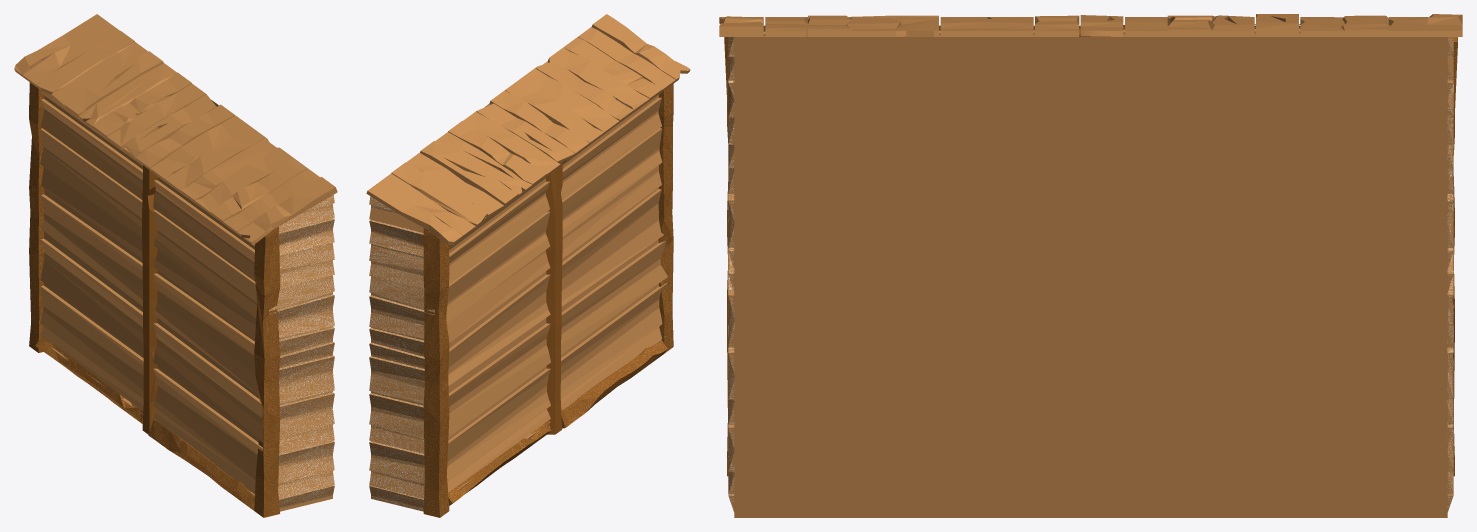
File: Extension3.fbx
The picture shows the model from 3 angles, left to right: view 1: azimuth 30°, elevation 25°; view 2: azimuth 150°, elevation 25°; view 3: azimuth 270°, elevation 25°; orthographic projection. The views are drawn at different scales.
Visible parts, largest first — view 1: Group4, Group5, Group3, Group6, Group9, Group7, Group10, Group8; view 2: Group4, Group5, Group2, Group7, Group9, Group6, Group10, Group8; view 3: Group4, Group5, Group2, Group3, Group7, Group6.
Part boxes in pixels (x1=…): Group4: x1=40, y1=91, x2=332, y2=511; Group5: x1=14, y1=14, x2=337, y2=245; Group3: x1=268, y1=195, x2=334, y2=507; Group6: x1=254, y1=226, x2=280, y2=517; Group9: x1=142, y1=165, x2=157, y2=434; Group7: x1=29, y1=82, x2=44, y2=352; Group10: x1=148, y1=419, x2=254, y2=510; Group8: x1=35, y1=337, x2=143, y2=423; Group4: x1=371, y1=95, x2=667, y2=511; Group5: x1=366, y1=14, x2=690, y2=244; Group2: x1=369, y1=196, x2=434, y2=508; Group7: x1=423, y1=228, x2=449, y2=517; Group9: x1=546, y1=162, x2=562, y2=434; Group6: x1=658, y1=84, x2=673, y2=353; Group10: x1=561, y1=340, x2=667, y2=428; Group8: x1=448, y1=421, x2=551, y2=505; Group4: x1=734, y1=24, x2=1447, y2=517; Group5: x1=719, y1=14, x2=1462, y2=36; Group2: x1=1442, y1=37, x2=1453, y2=512; Group3: x1=728, y1=37, x2=739, y2=512; Group7: x1=1452, y1=37, x2=1457, y2=476; Group6: x1=724, y1=37, x2=729, y2=476.
Bounding box in the file's own units: 527 × 1833 × 2520.
